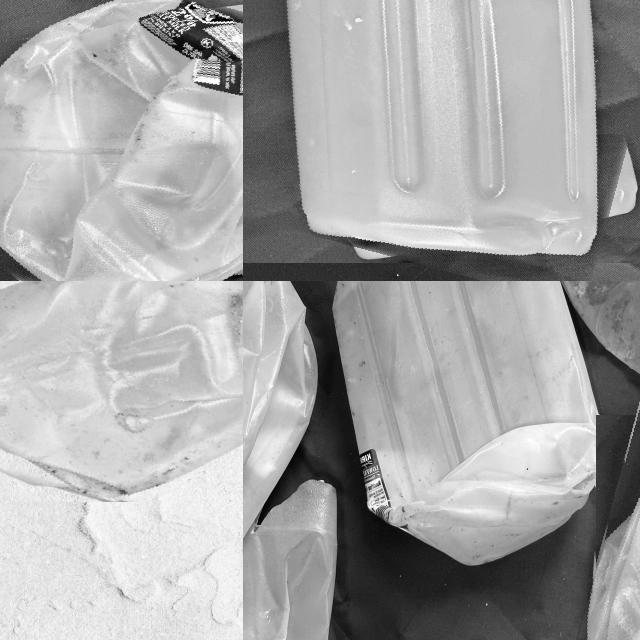milk-jug: (243, 0, 640, 281), (331, 281, 599, 563), (0, 0, 243, 281), (0, 281, 243, 526), (243, 281, 325, 570), (243, 476, 341, 640)
